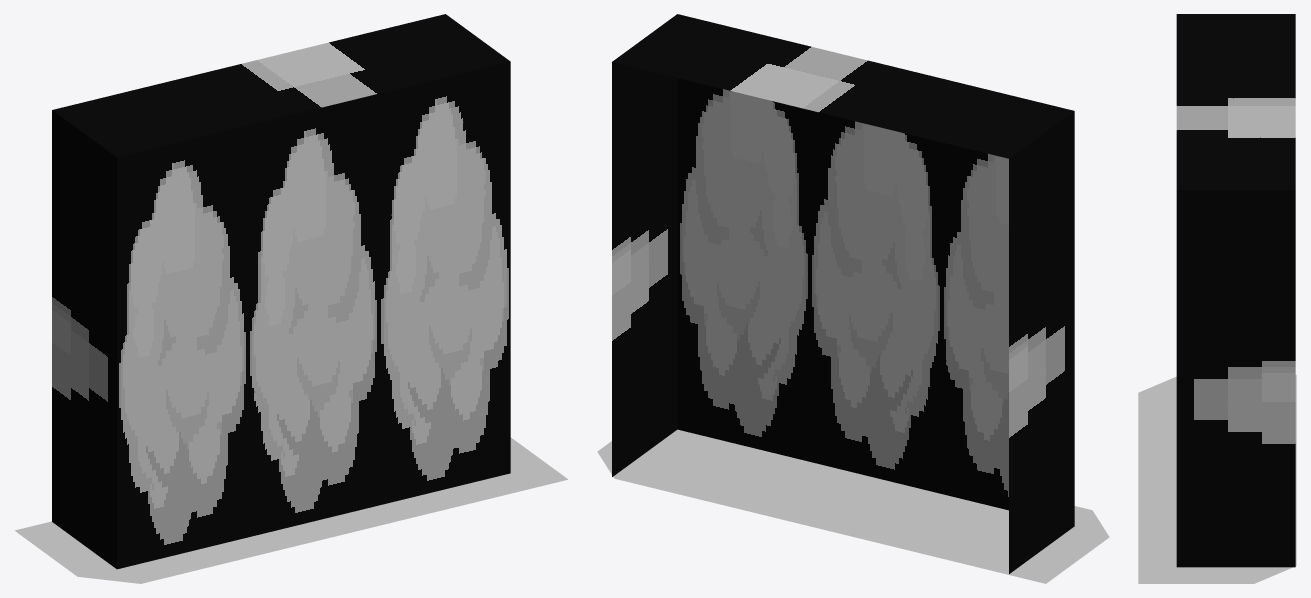
3 renders of one model, left to right at view 1: azimuth 30°, elevation 25°; view 2: azimuth 150°, elevation 25°; view 3: azimuth 270°, elevation 25°, orthographic. The views are drawn at different scales.
Parts seen in each view (by area): view 1: polygon0, polygon1; view 2: polygon0, polygon1; view 3: polygon0, polygon1.
Part boxes in pixels (bbox=[...]): polygon0: bbox=[52, 14, 510, 569]; polygon1: bbox=[14, 437, 567, 583]; polygon0: bbox=[612, 14, 1074, 573]; polygon1: bbox=[597, 429, 1109, 583]; polygon0: bbox=[1176, 14, 1295, 567]; polygon1: bbox=[1138, 374, 1296, 583].
Size of the model in its own units: 8.32 by 7 by 2.66.
